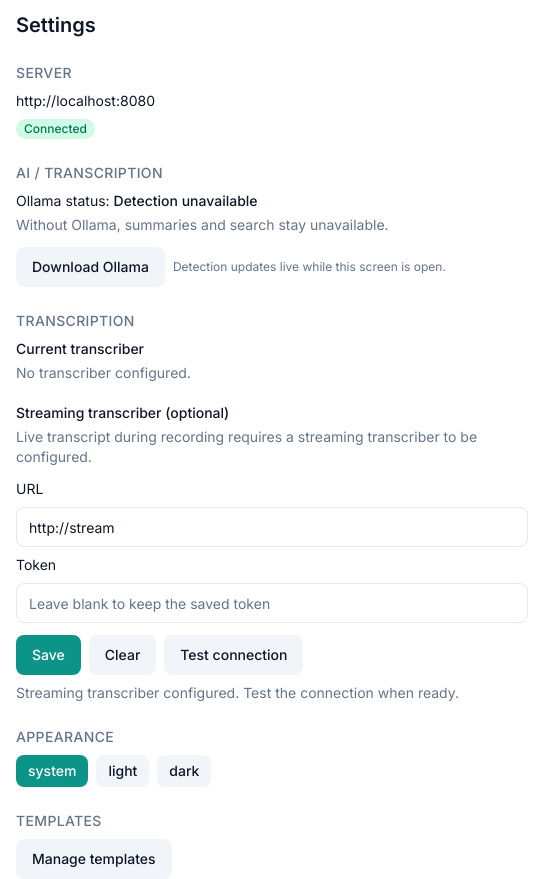
Test: SettingsScreen › prefills only the streaming URL and clears the saved configuration
Check: the field labelled "URL" holds "http://stream", box [16,507,528,547]
Check: the password field labelled "Token" is empty, box [16,583,528,623]
Click the button "Clear". click: click(123, 655)
box: [89,635,156,675]
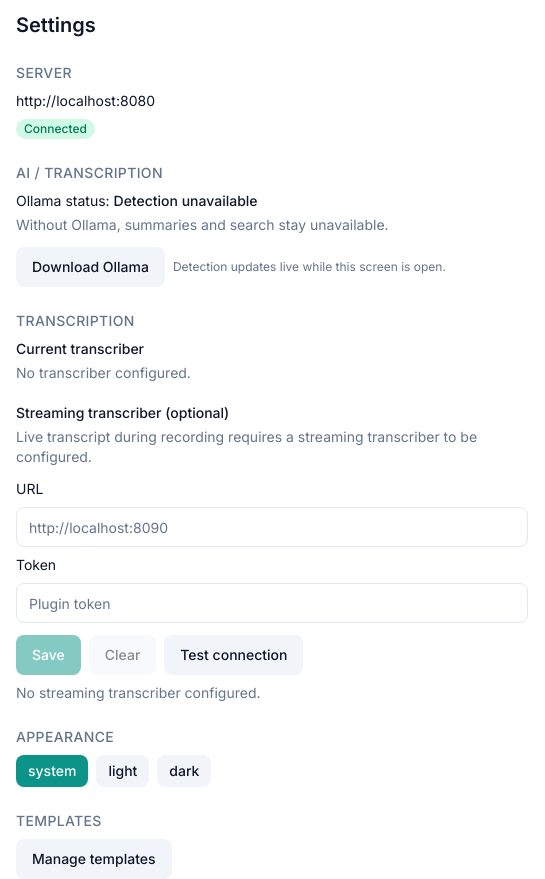
Check: the text "No streaming transcriber configured." is shown, box [16,684,260,701]
